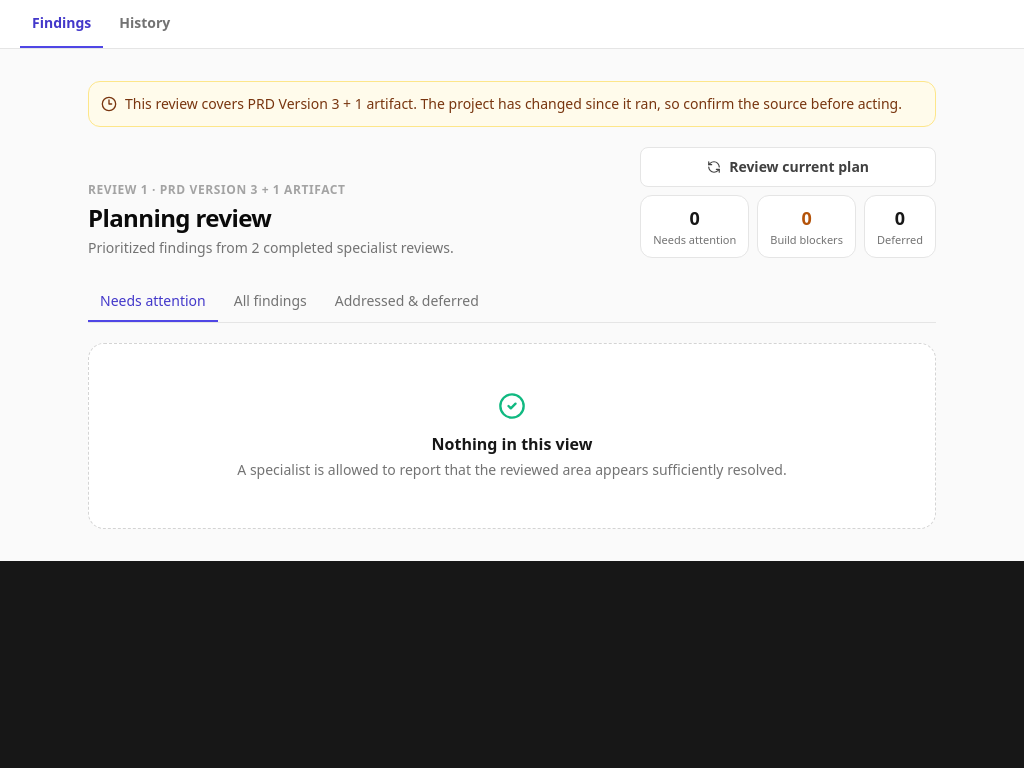
Test case: ReviewWorkspace › offers a fresh review instead of reopening a finding from stale Challenge context
The width and height of the screenshot is (1024, 768).
Step 1. Click the button "All findings" → click(270, 302), box [222,282,319,322]
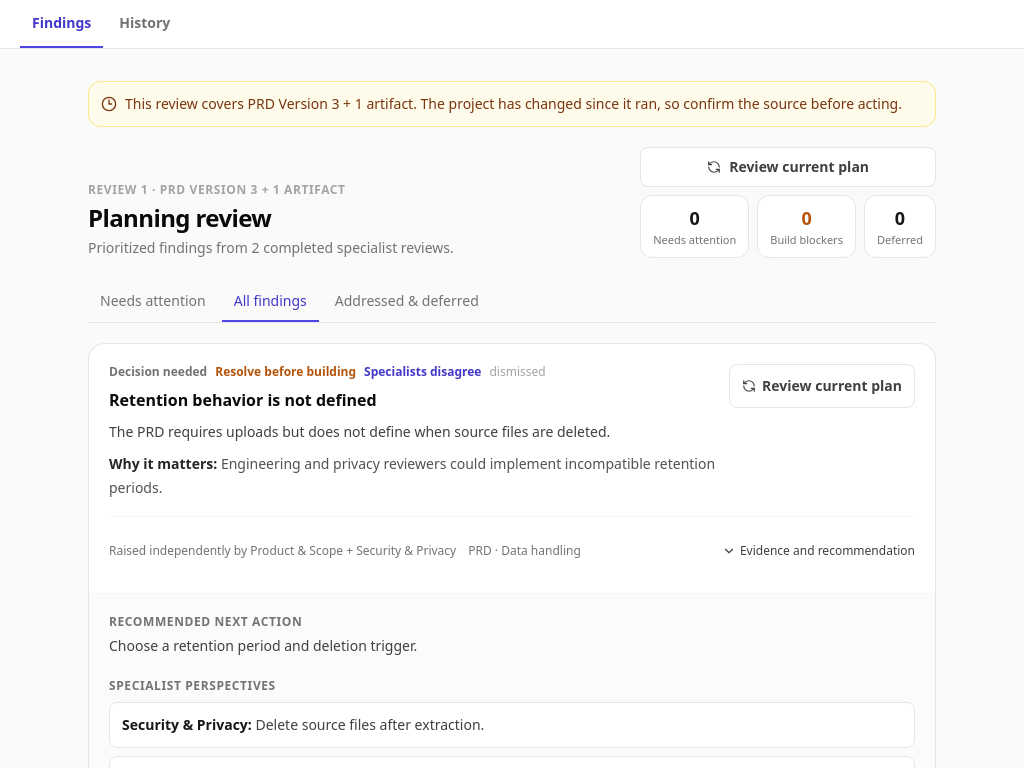
Step 2. Click the button "Review current plan" in the row of "dismissed" → click(822, 386), box [729,364,915,408]
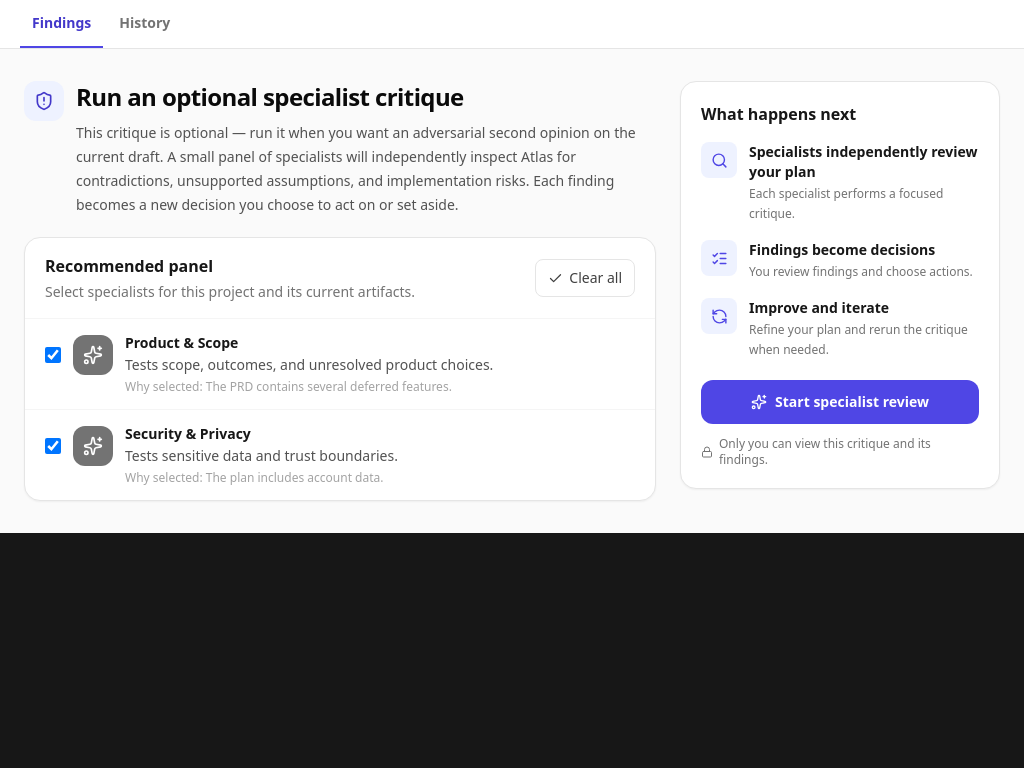
Result: the button "Start specialist review" is shown at [701,380,979,424]
